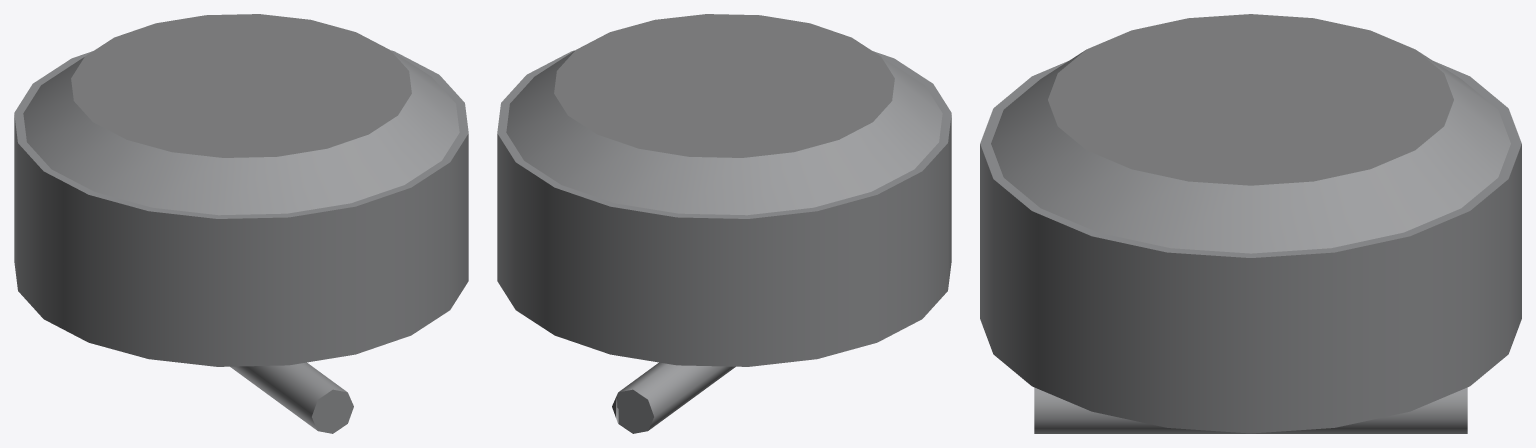
3 renders of one model, left to right at view 1: azimuth 30°, elevation 25°; view 2: azimuth 150°, elevation 25°; view 3: azimuth 270°, elevation 25°, orthographic. The views are drawn at different scales.
Bounding box in the file's own units: 0.56 × 0.38 × 0.56.
